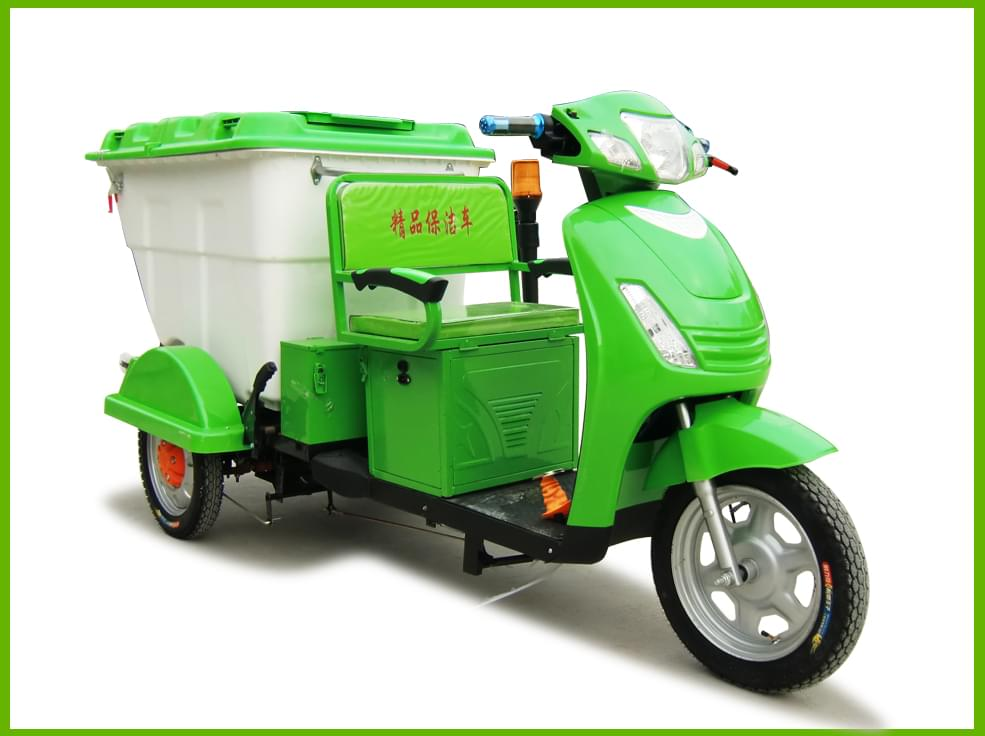MNV: (87, 91, 866, 694)
